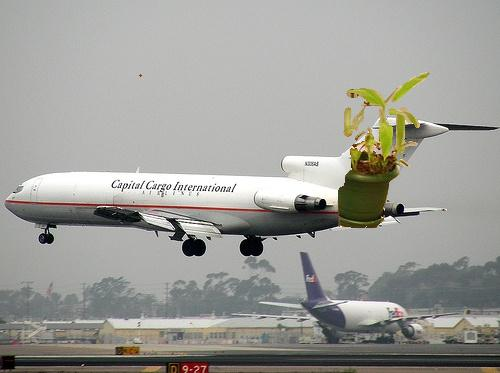tampered: (140, 73, 430, 228)
